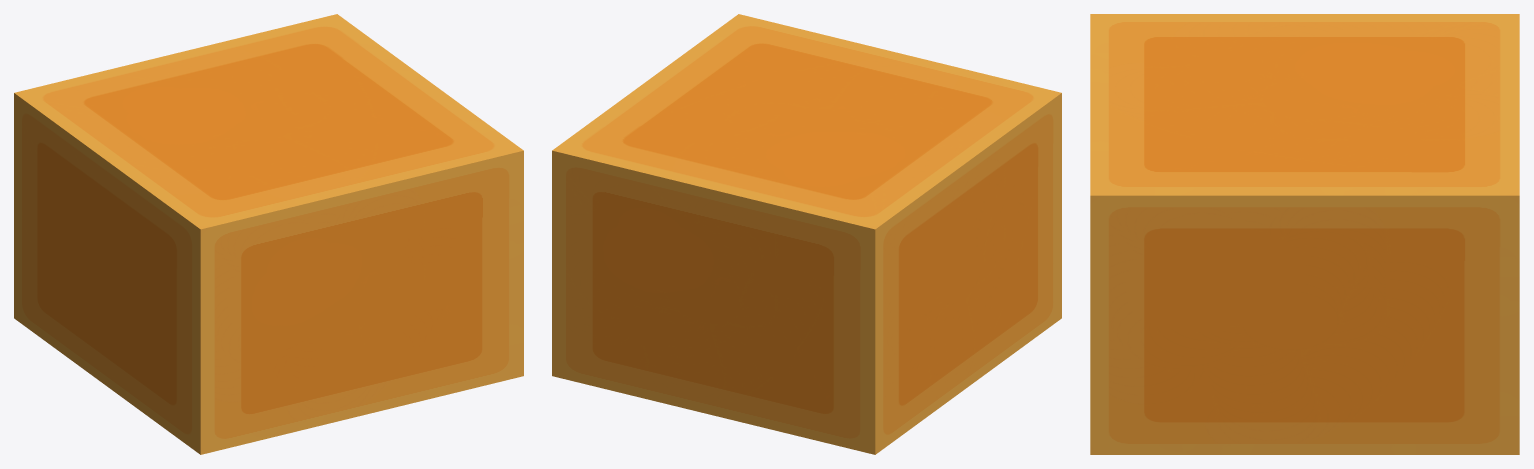
File: Caramel.glb
3 renders of one model, left to right at view 1: azimuth 30°, elevation 25°; view 2: azimuth 150°, elevation 25°; view 3: azimuth 270°, elevation 25°, orthographic. The views are drawn at different scales.
Visible parts, largest first — view 1: Caramel_2; view 2: Caramel_2; view 3: Caramel_2.
Boxes of the visible parts, bbox=[...] form: Caramel_2: bbox=[14, 14, 523, 454]; Caramel_2: bbox=[552, 14, 1061, 454]; Caramel_2: bbox=[1090, 14, 1519, 454].
Size of the model in its own units: 0.09 by 0.06 by 0.09.
Materials: 1 (1 with a texture image).
